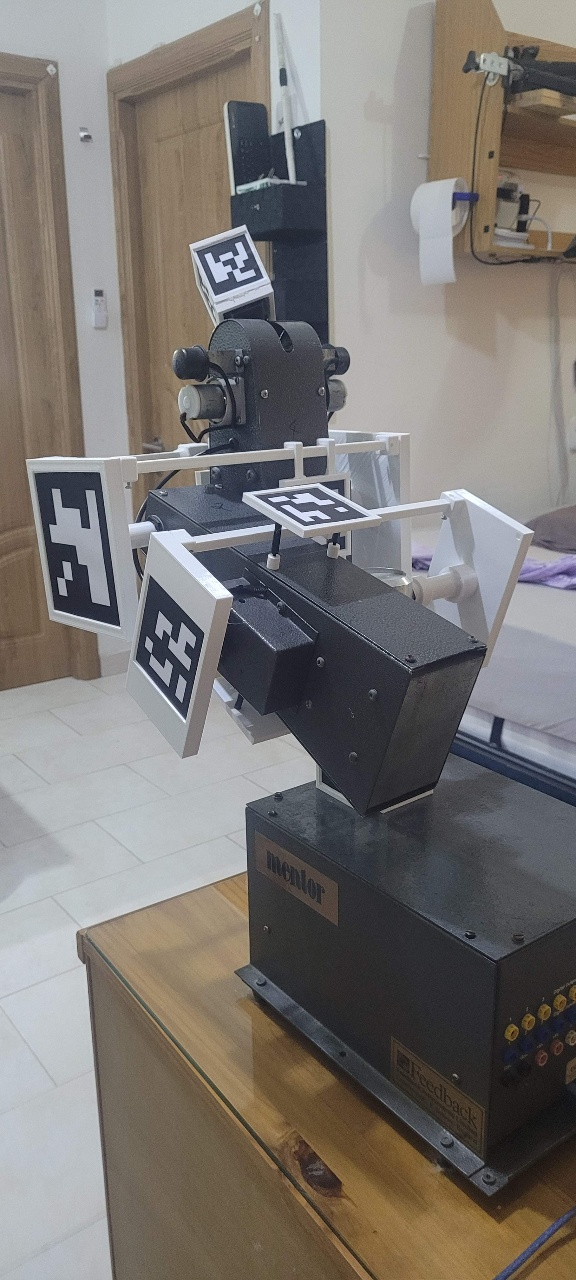Robot: (25, 223, 536, 820)
